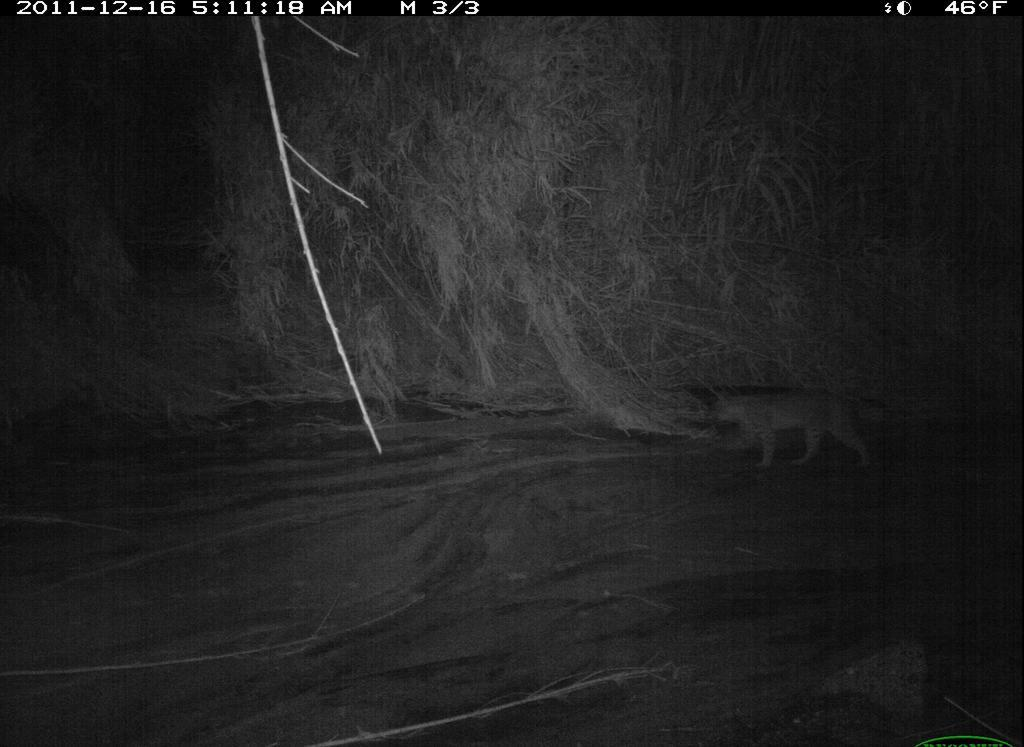bobcat: (699, 373, 887, 481)
